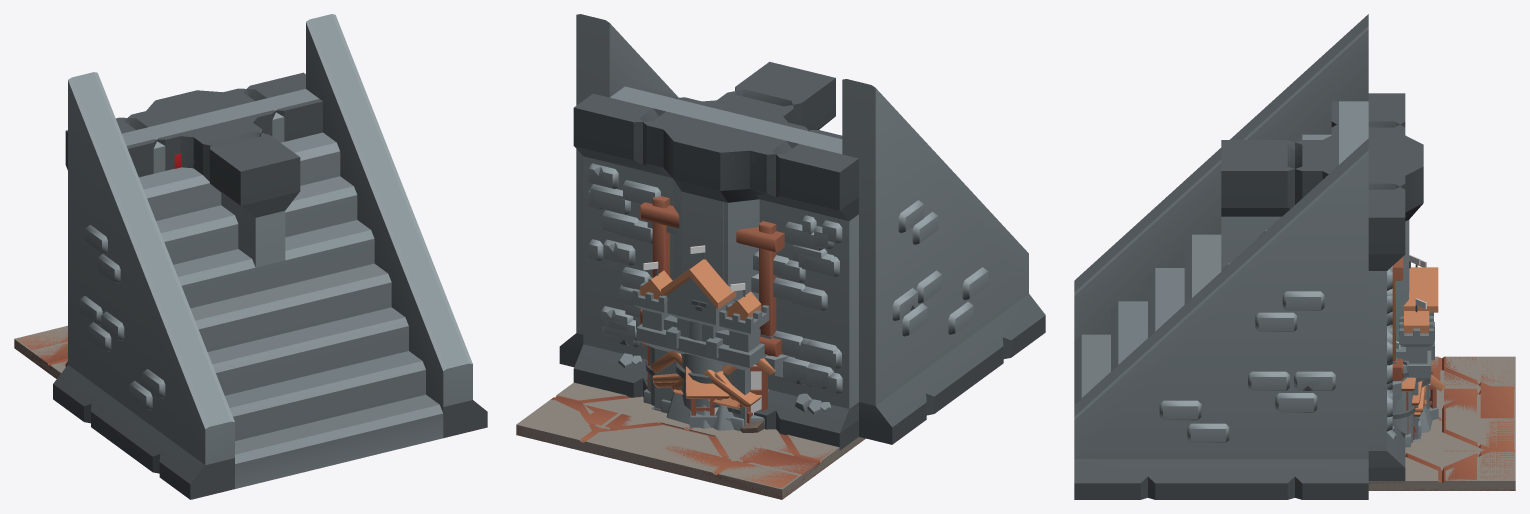
3 renders of one model, left to right at view 1: azimuth 30°, elevation 25°; view 2: azimuth 150°, elevation 25°; view 3: azimuth 270°, elevation 25°, orthographic. The views are drawn at different scales.
Visible parts, largest first — view 1: stairs, wall_corner, wall_arched, floor_tile_large, floor_wood_large, wall_pillar, pillar_decorated; view 2: stairs, wall_pillar, wall_corner, wall, floor_tile_large, wall_arched, castle, wall_window_closed, floor_wood_large, wall_doorway, wall_archedwindow_gated, pillar_decorated (+6 smaller); view 3: stairs, floor_tile_large, wall_corner, wall_arched, wall, floor_wood_large, wall_pillar, castle, barracks, wall_window_closed, floor_tile_small_decorated, wall_archedwindow_gated (+2 smaller).
Part boxes in pixels (x1,y1,x2,y2): stairs: (53,14,487,499); wall_corner: (153,120,300,267); wall_arched: (65,72,322,366); floor_tile_large: (14,325,67,378); floor_wood_large: (14,328,67,377); wall_pillar: (66,90,257,168); pillar_decorated: (153,91,242,136); stairs: (559,14,1045,444); wall_pillar: (573,98,839,446); wall_corner: (712,61,849,428); wall: (573,98,853,446); floor_tile_large: (516,382,864,499); wall_arched: (574,83,858,450); castle: (632,245,773,425); wall_window_closed: (583,164,827,386); floor_wood_large: (516,395,865,499); wall_doorway: (584,184,845,433); wall_archedwindow_gated: (586,168,841,414); pillar_decorated: (675,101,759,279); stairs: (1074,14,1368,499); floor_tile_large: (1368,356,1515,490); wall_corner: (1221,121,1394,269); wall_arched: (1331,93,1405,481); wall: (1368,183,1405,483); floor_wood_large: (1373,356,1515,490); wall_pillar: (1313,135,1423,450); castle: (1392,255,1438,439); barracks: (1392,360,1445,443); wall_window_closed: (1387,256,1403,439); floor_tile_small_decorated: (1405,389,1441,449); wall_archedwindow_gated: (1368,271,1401,450).
Bounding box in the file's own units: 5 × 5.68 × 6.
13 materials, 1 textured.
